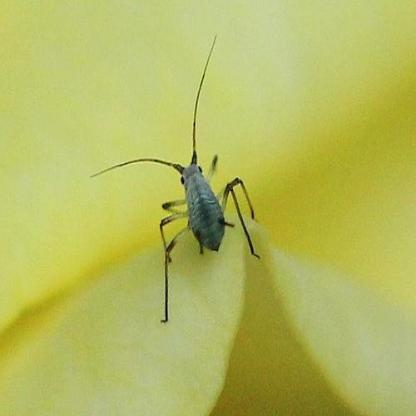aphid: (96, 41, 284, 329)
